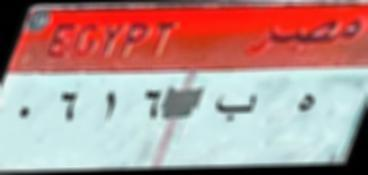0: (13, 97, 37, 126)
1: (96, 86, 122, 126)
6: (140, 87, 164, 125), (58, 88, 80, 128)
baa: (212, 90, 264, 129)
haa: (294, 86, 318, 127)
